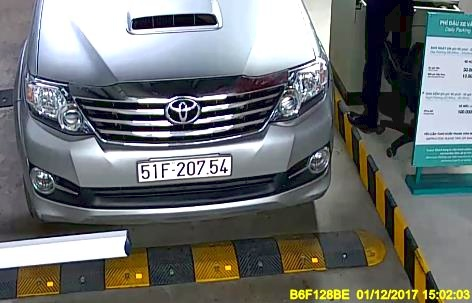plate: (133, 154, 232, 183)
